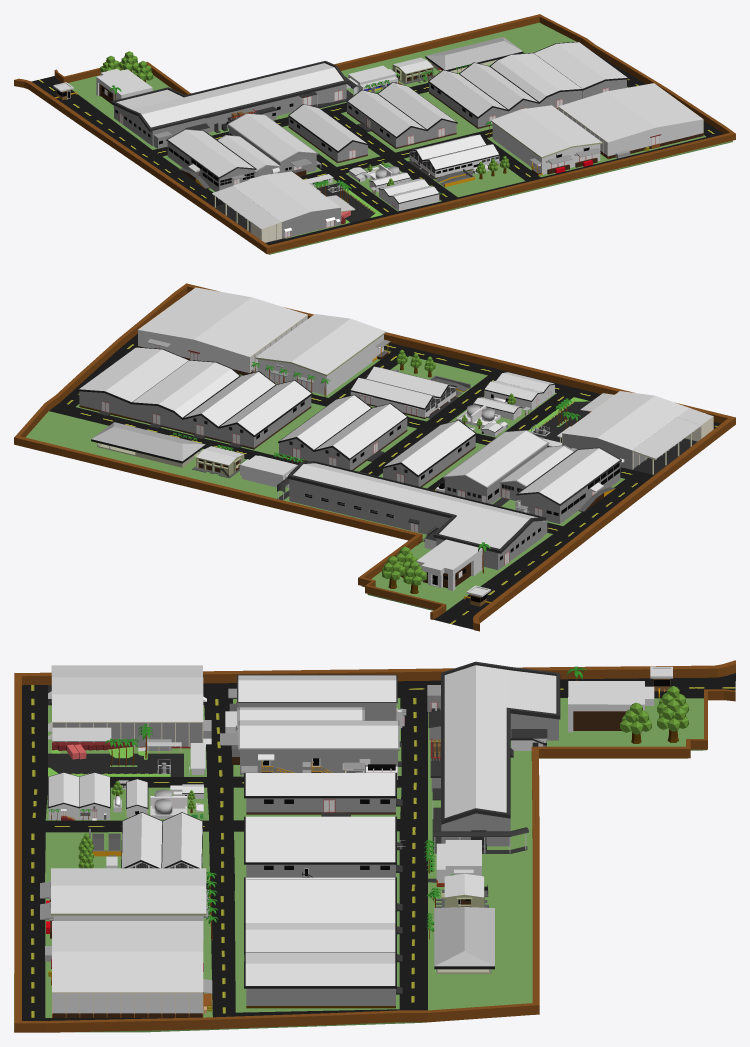
The model's file is TrabajoProyectoARv54.fbx.
3 renders of one model, top to bottom at view 1: azimuth 30°, elevation 25°; view 2: azimuth 150°, elevation 25°; view 3: azimuth 270°, elevation 25°, orthographic. The views are drawn at different scales.
Parts seen in each view (by area): view 1: Cube.277, Carretera, Cesped, Almacen8, Cube.014, techos, Cube.298, Cube.019, Cube.273, Cube.274, edificio 5frente a teco techo.002, edificio 1 frente a teco techo.003 (+22 smaller); view 2: Cube.277, Carretera, Cesped, techos, Almacen8, Cube.014, Cube.298, Cube.019, Cube.273, Cube.274, edificio 5frente a teco techo.002, edificio 1 frente a teco techo.003 (+23 smaller); view 3: Carretera, Cesped, Cube.277, techos, Almacen8, Cube.014, Cube.019, Cube.298, Cube.274, Cube.273, edificio 1 frente a teco techo.003, edificio 5frente a teco techo.002 (+23 smaller).
Part boxes in pixels (x1,y1,x2,y2): Cube.277: (14, 14, 735, 254); Carretera: (31, 54, 723, 245); Cesped: (68, 22, 732, 254); Almacen8: (559, 83, 703, 159); Cube.014: (111, 61, 348, 131); techos: (346, 62, 539, 138); Cube.298: (490, 105, 602, 174); Cube.019: (232, 171, 340, 238); Cube.273: (166, 129, 256, 191); Cube.274: (227, 113, 318, 172); edificio 5frente a teco techo.002: (489, 53, 583, 103); edificio 1 frente a teco techo.003: (533, 41, 628, 89); Cube.277: (14, 283, 735, 631); Carretera: (49, 299, 720, 629); Cesped: (25, 350, 624, 610); techos: (182, 371, 408, 460); Almacen8: (138, 287, 306, 375); Cube.014: (287, 461, 546, 553); Cube.298: (255, 314, 386, 395); Cube.019: (562, 391, 689, 469); Cube.273: (516, 447, 621, 523); Cube.274: (443, 430, 549, 503); edificio 5frente a teco techo.002: (130, 360, 240, 419); edificio 1 frente a teco techo.003: (77, 347, 188, 403); Carretera: (22, 673, 735, 1020); Cesped: (14, 698, 706, 1032); Cube.277: (14, 660, 735, 1032); techos: (244, 816, 396, 922); Almacen8: (52, 921, 203, 1017); Cube.014: (441, 661, 560, 824); Cube.019: (52, 677, 203, 747); Cube.298: (51, 868, 206, 940); Cube.274: (238, 720, 399, 774); Cube.273: (237, 674, 397, 720); edificio 1 frente a teco techo.003: (244, 952, 396, 988); edificio 5frente a teco techo.002: (244, 923, 396, 954).
Size of the model in its own units: 4676 by 347 by 3927.
